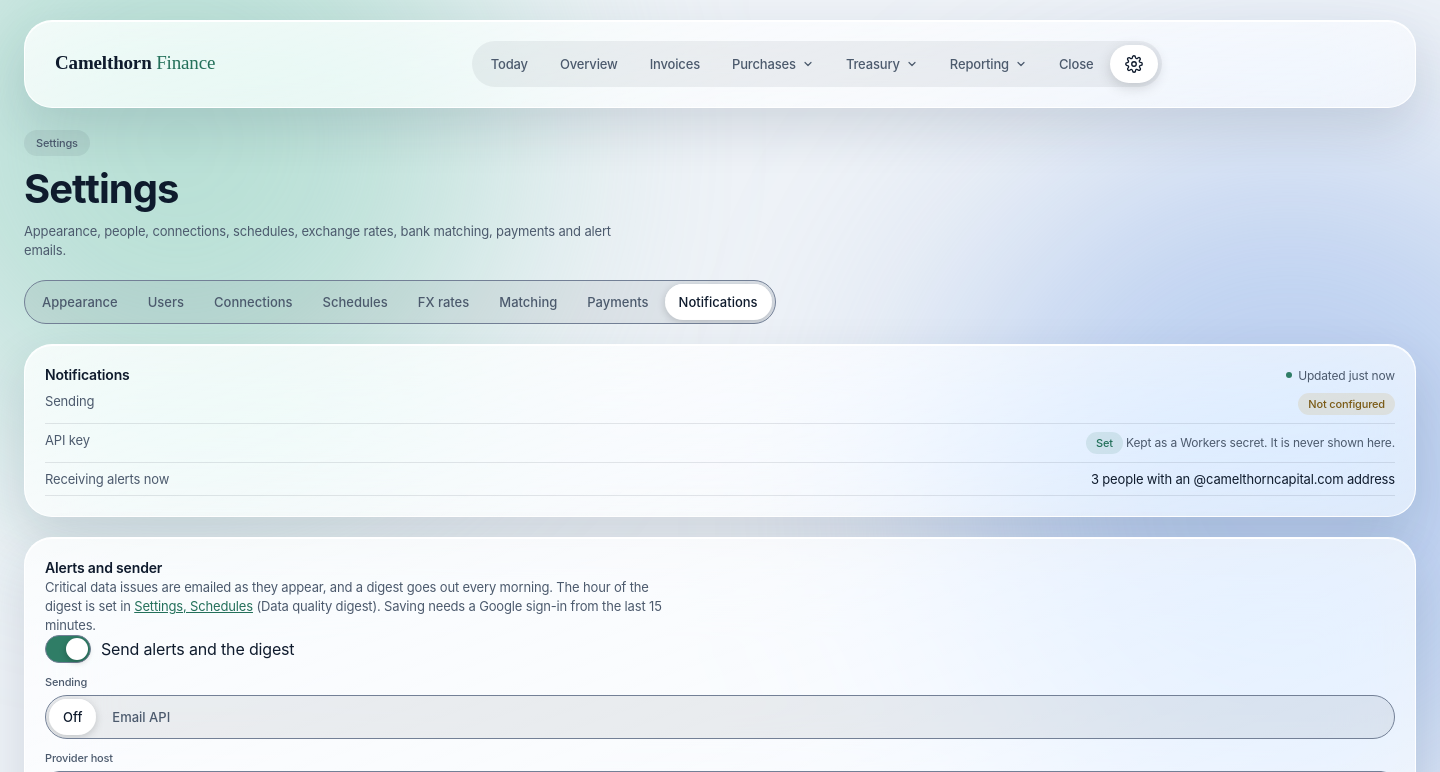
the host confirmation cannot be skipped › switching sending on for a host saved while off asks, and names that host
This screenshot has width=1440, height=772.
Expected: the heading "Alerts and sender" is shown, [45,559,162,576]
What coordinates should you click on to do the following:
click the button "Email API"
I would click on:
 (141, 717)
Its box is [98,699,184,735].
(page scrolled)
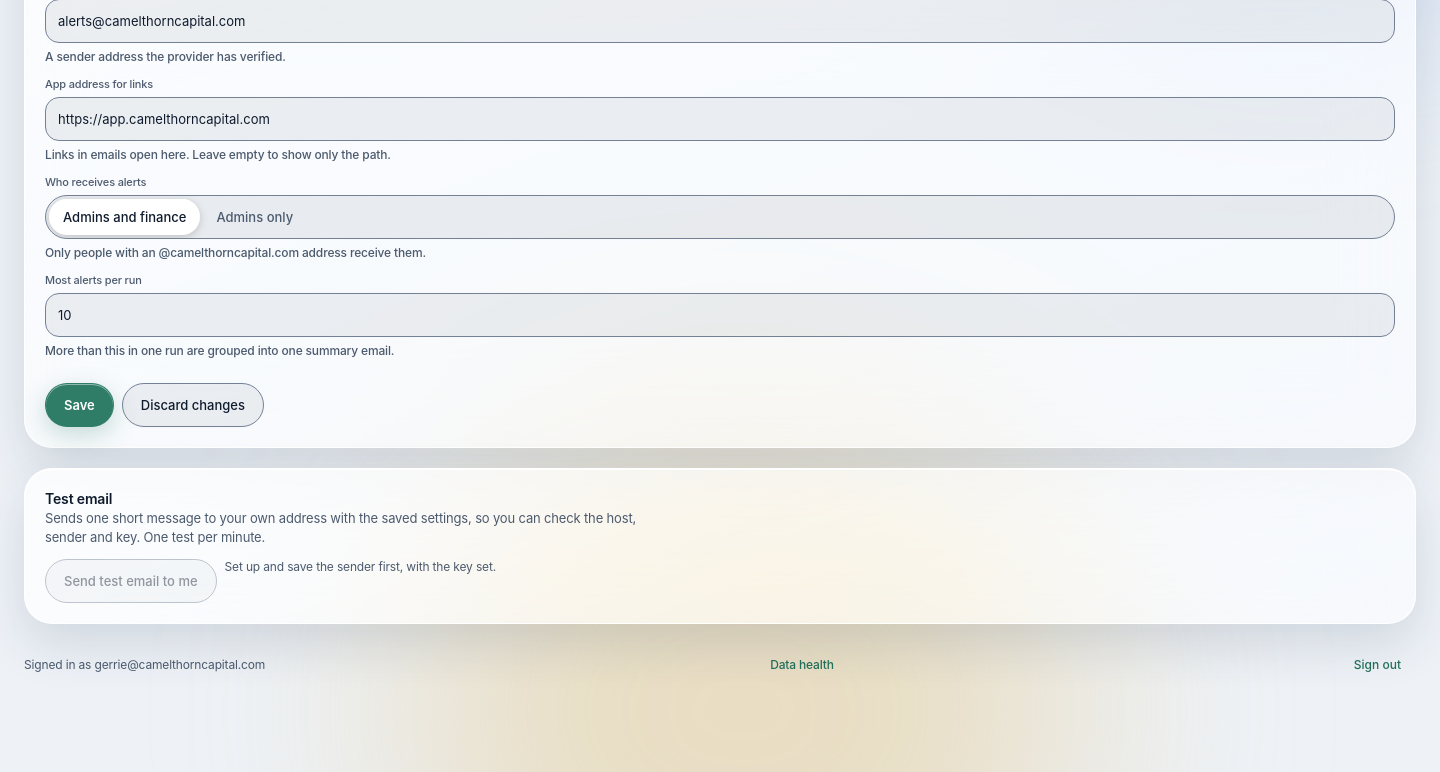
What coordinates should you click on to do the following:
click the button "Save"
I would click on:
 (79, 405)
Its box is [45,383,114,427].
(page scrolled)
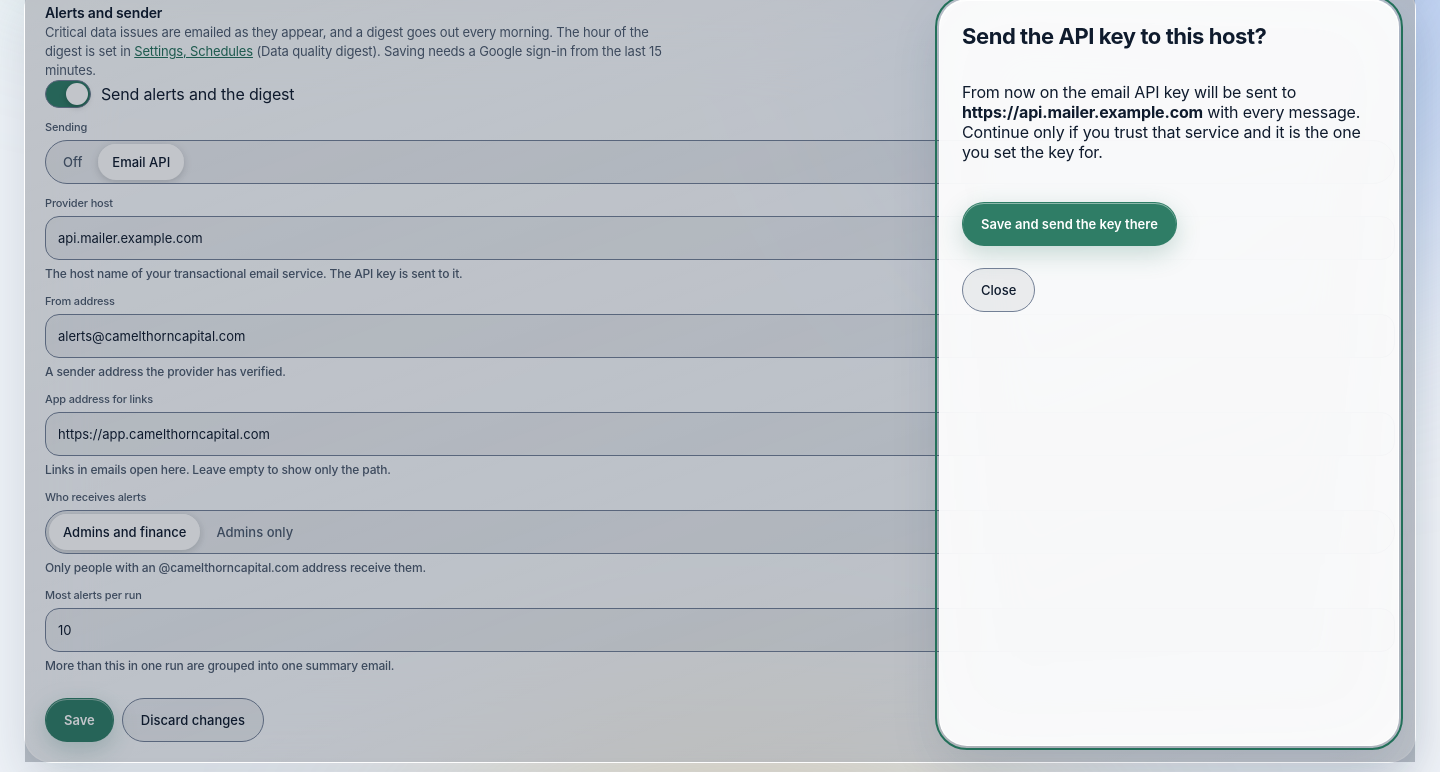
Expected: the text "https://api.mailer.example.com" is shown, [962,102,1203,122]
